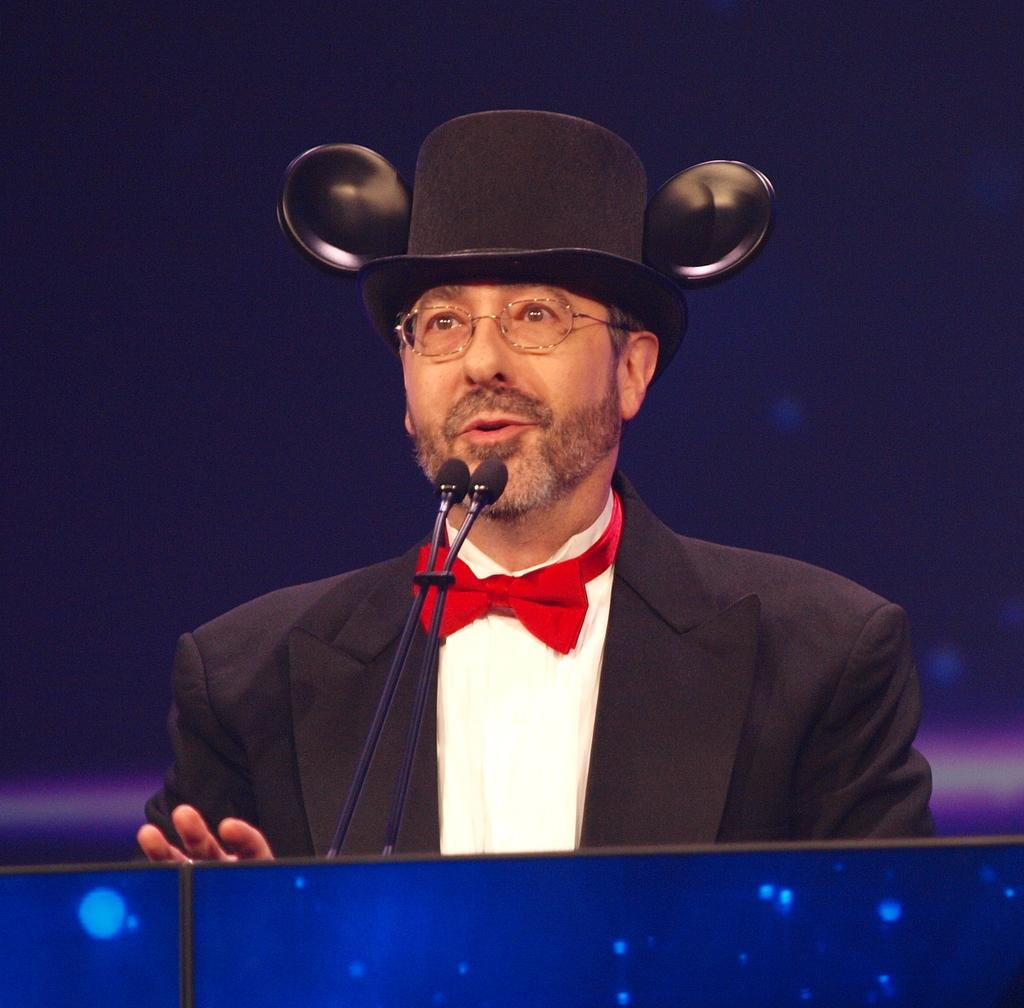Hat: (356, 102, 686, 374)
